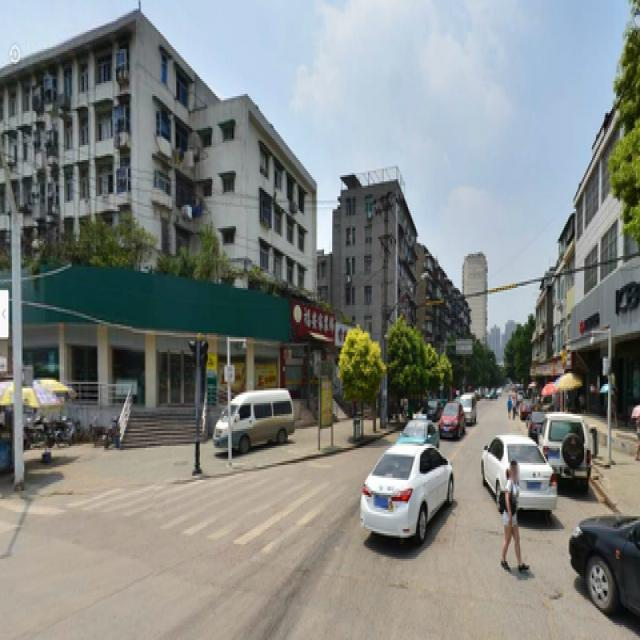cinn: (337, 326, 375, 421), (386, 320, 418, 410)
